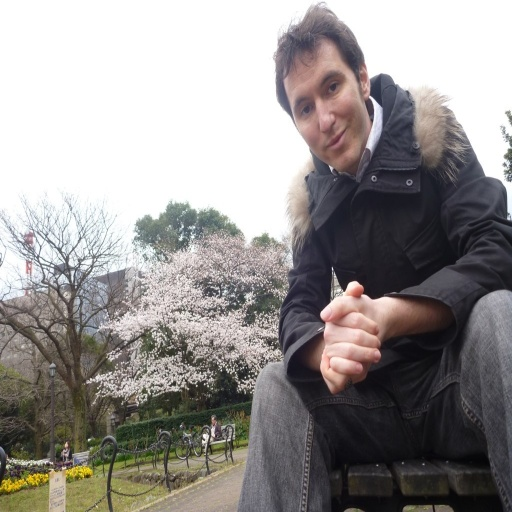hand: (319, 293, 382, 393)
